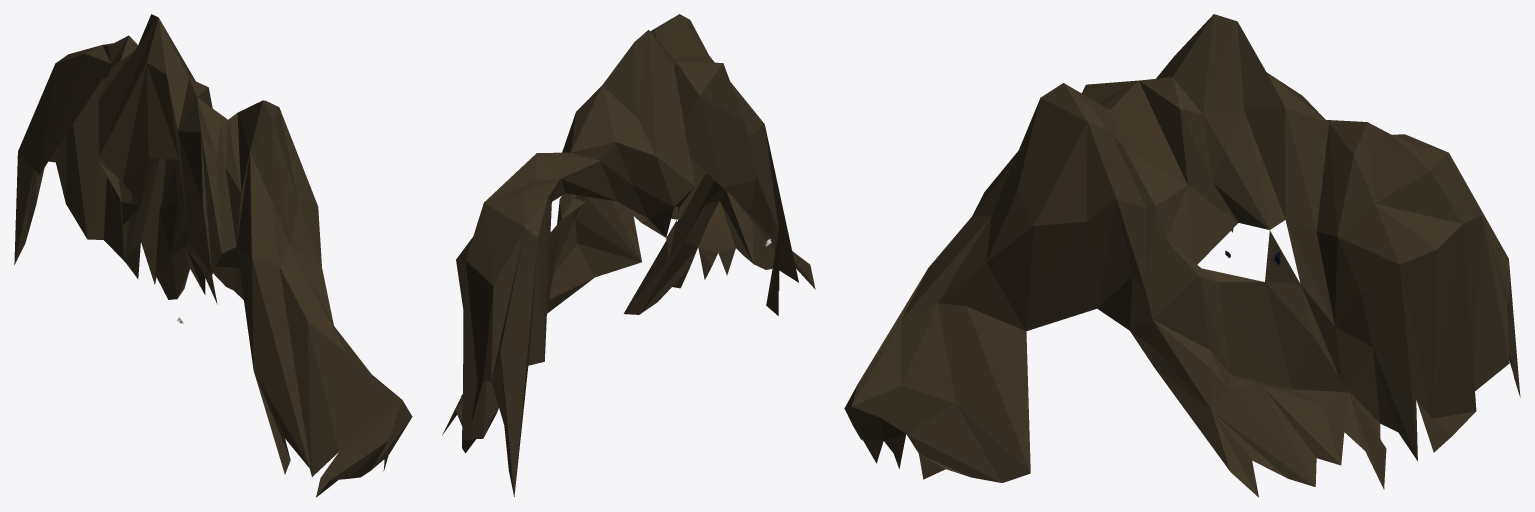
The model's file is 3guideStones.fbx.
3 views of the same model, side by side, from view 1: azimuth 30°, elevation 25°; view 2: azimuth 150°, elevation 25°; view 3: azimuth 270°, elevation 25° (orthographic). The views are drawn at different scales.
Parts seen in each view (by area): view 1: 地形_1; view 2: 地形_1; view 3: 地形_1.
Boxes of the visible parts, box(x1,y1,x2,y2) form: 地形_1: box(14, 14, 412, 497); 地形_1: box(442, 14, 815, 496); 地形_1: box(844, 14, 1520, 497).
Size of the model in its own units: 108 by 193 by 287.
